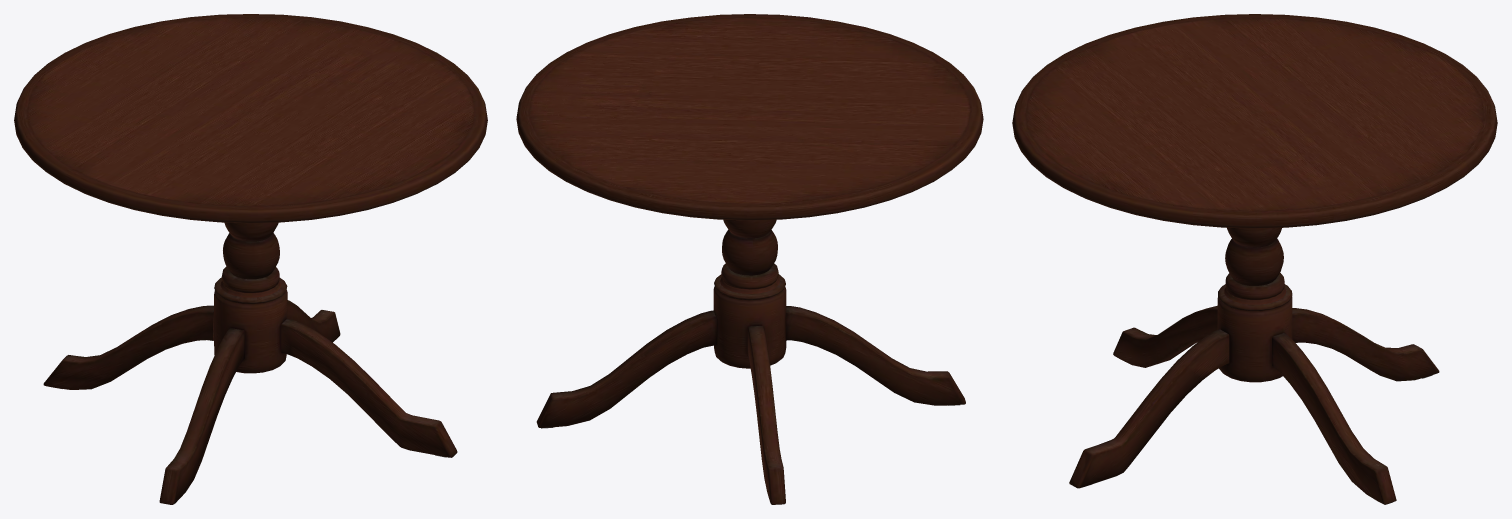
File: round_wooden_table_01.glb
3 renders of one model, left to right at view 1: azimuth 30°, elevation 25°; view 2: azimuth 150°, elevation 25°; view 3: azimuth 270°, elevation 25°, orthographic. The views are drawn at different scales.
Visible parts, largest first — view 1: round_wooden_table_01; view 2: round_wooden_table_01; view 3: round_wooden_table_01.
Part boxes in pixels (<box>): round_wooden_table_01: <box>14,14,487,504</box>; round_wooden_table_01: <box>516,14,983,504</box>; round_wooden_table_01: <box>1012,14,1497,504</box>.
Size of the model in its own units: 1.4 by 1 by 1.4.
Materials: 1 (1 with a texture image).
